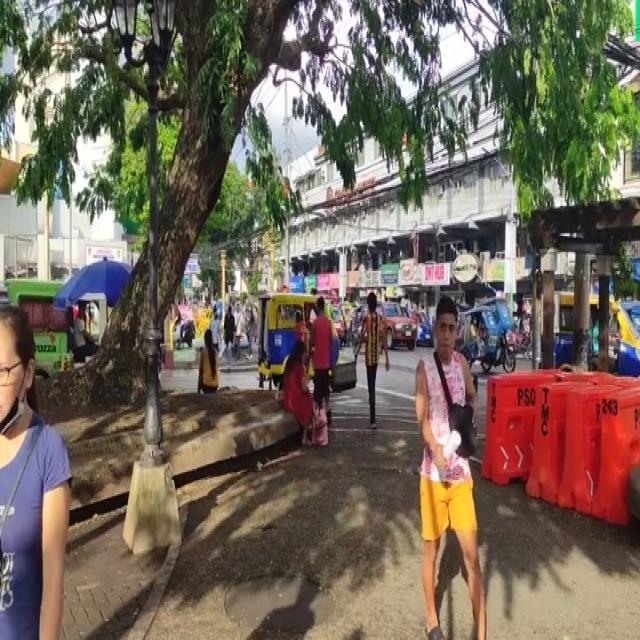hairnet: (0, 336, 28, 446)
